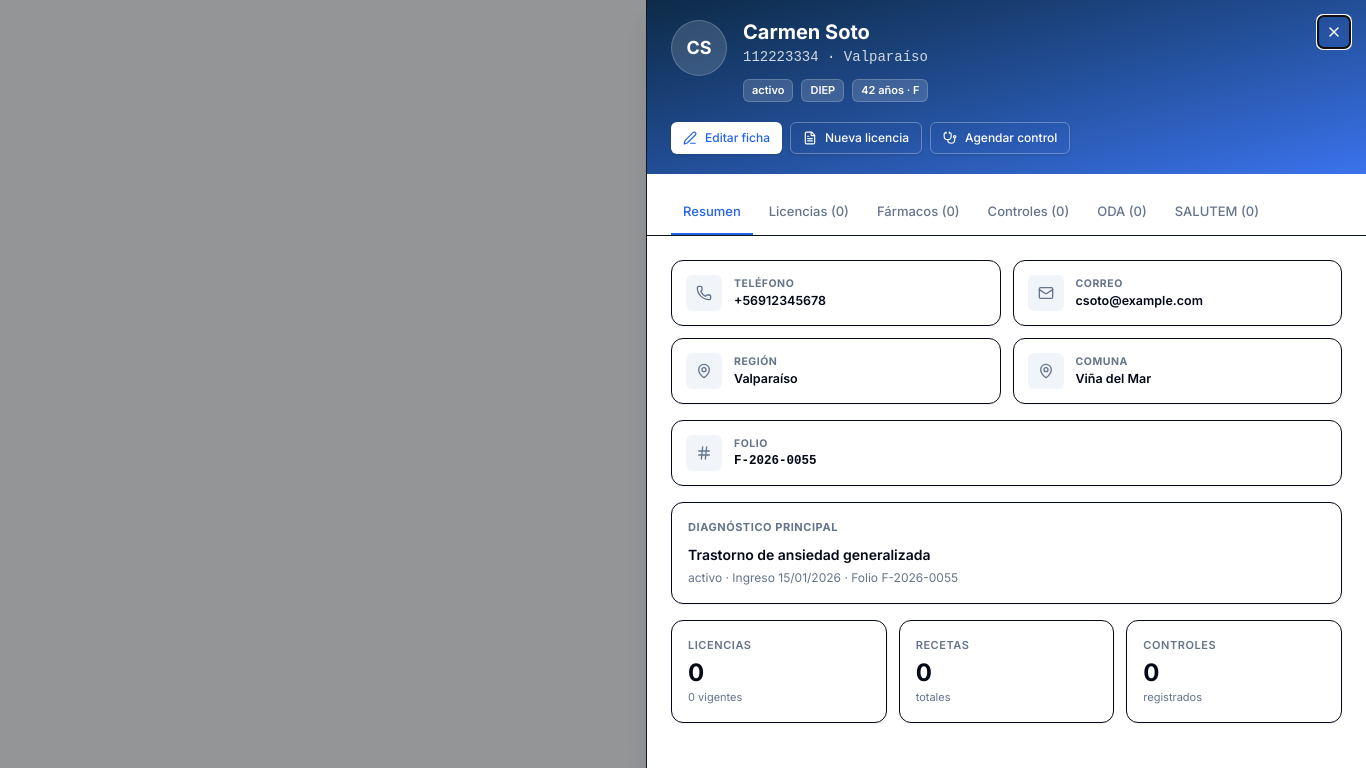
Scenario: PatientSheet — editar ficha (BUG-2608-01) › si el guardado falla, lo dice y conserva lo escrito
Click the button "Editar ficha".
click(726, 138)  # box [671, 122, 782, 154]
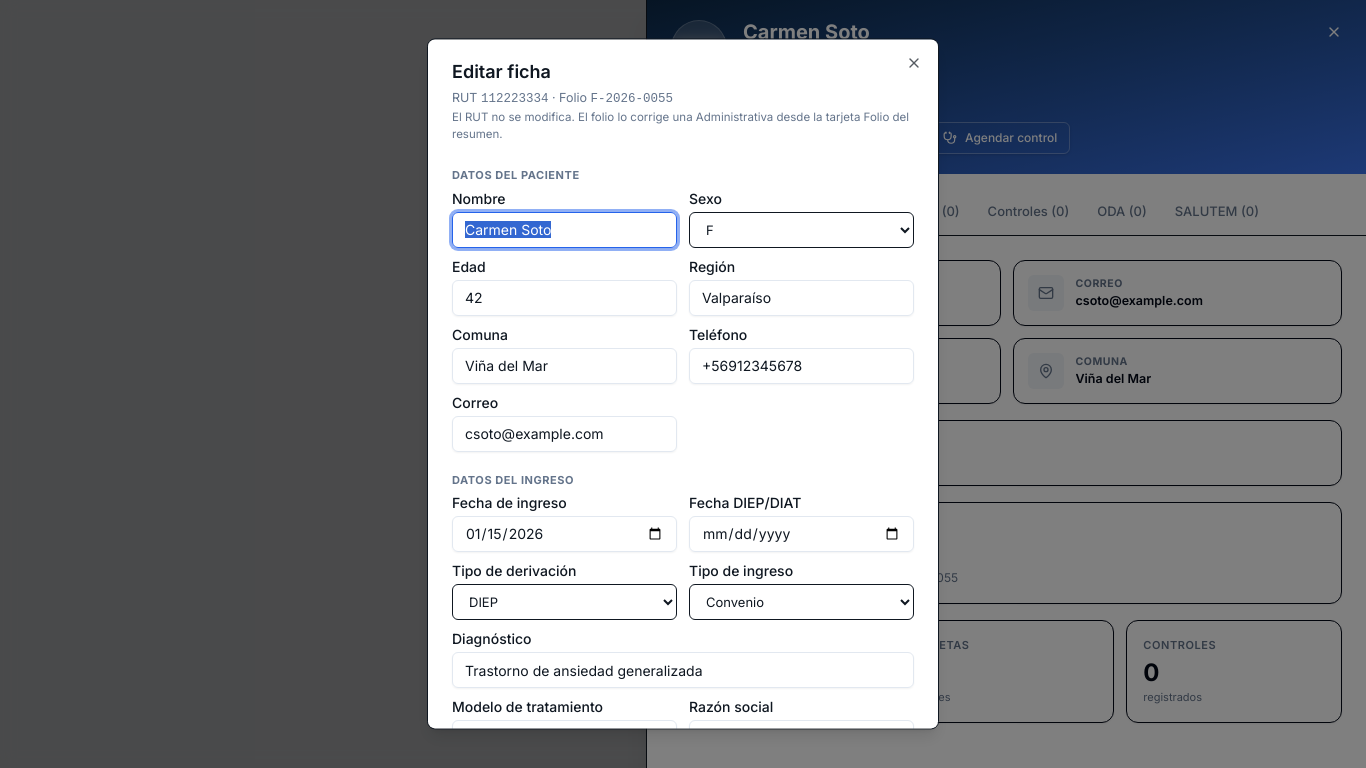
Replace the text in the field labelled "Diagnóstico" with "Trastorno adaptativo" at (683, 671), box [452, 653, 914, 689]
(page scrolled)
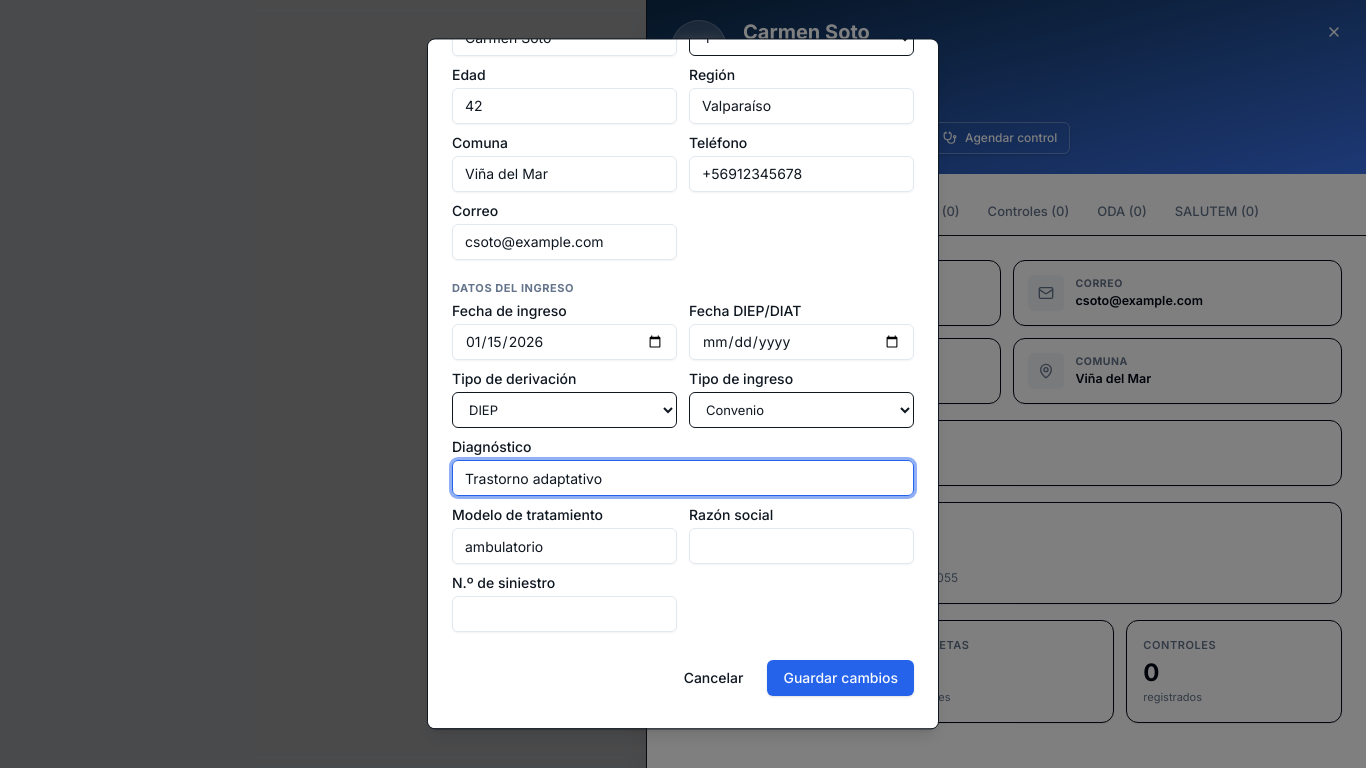
Click the button "Guardar cambios".
click(841, 679)  # box [768, 661, 914, 697]
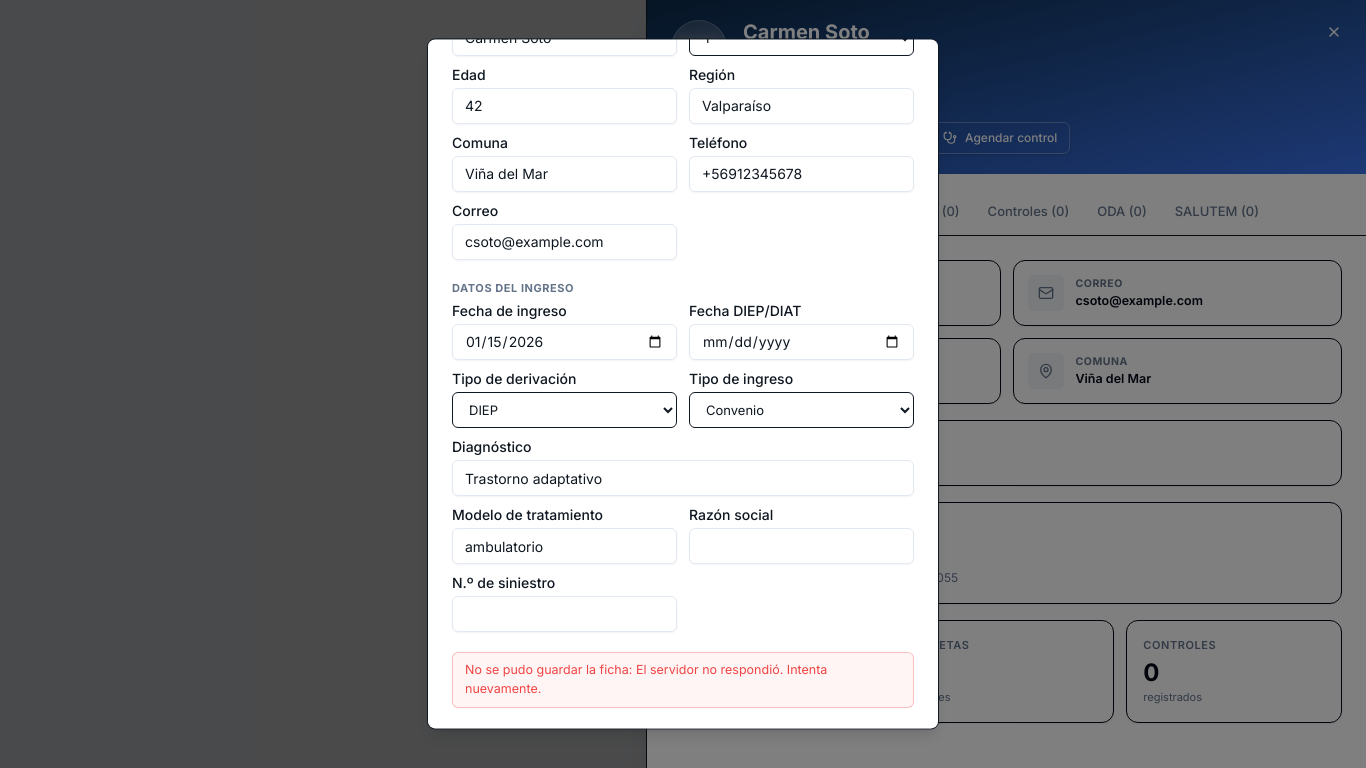
Now the message shows "No se pudo guardar", box [465, 663, 636, 678]
